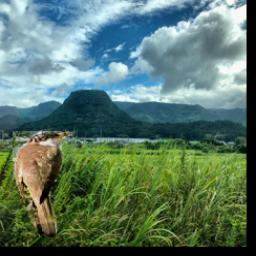Cuckoo: (14, 132, 73, 238)
